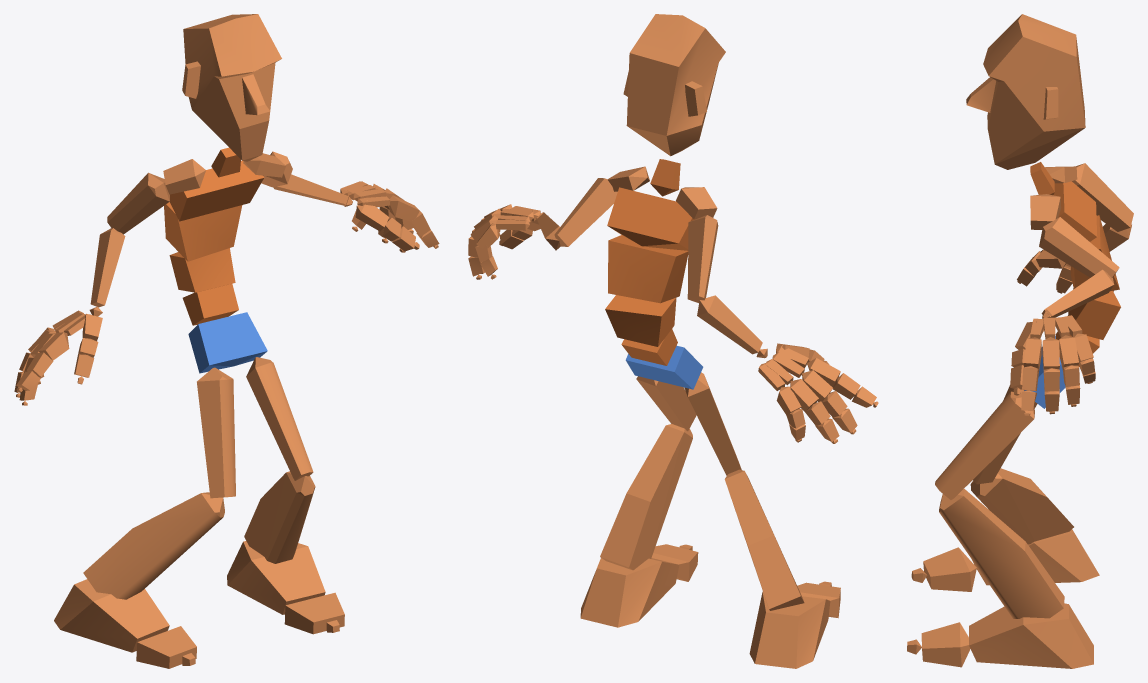
3 views of the same model, side by side, from view 1: azimuth 30°, elevation 25°; view 2: azimuth 150°, elevation 25°; view 3: azimuth 270°, elevation 25° (orthographic). The views are drawn at different scales.
Visible parts, largest first — view 1: BOPED_Head, BOPED_R_leg, BOPED_R_foot, BOPED_R_foot01, BOPED_L_leg, BOPED_R_legup, BOPED_L_legup, Bone01, Bone04, Bone05, Bone03, BOPED_R_arm_upper (+8 smaller); view 2: BOPED_Head, BOPED_L_leg, BOPED_R_foot01, BOPED_R_foot, BOPED_R_leg, Bone04, Bone05, Bone03, BOPED_R_arm_upper, BOPED_R_legup, BOPED_L_arm_upper, Bone01 (+8 smaller); view 3: BOPED_Head, BOPED_L_leg, BOPED_R_foot01, BOPED_R_leg, BOPED_L_legup, BOPED_R_foot, BOPED_L_arm_upper, BOPED_R_foot_toe01, BOPED_R_arm_upper, BOPED_R_foot_toe04, Bone05, Bone03 (+15 smaller).
Part boxes in pixels (box(x1,y1,x2,y2)): BOPED_Head: box(182, 14, 281, 161); BOPED_R_leg: box(83, 492, 224, 599); BOPED_R_foot: box(54, 579, 169, 652); BOPED_R_foot01: box(227, 541, 325, 614); BOPED_L_leg: box(244, 471, 315, 563); BOPED_R_legup: box(197, 367, 235, 498); BOPED_L_legup: box(246, 357, 313, 480); Bone01: box(188, 312, 267, 373); Bone04: box(164, 202, 242, 261); Bone05: box(170, 160, 264, 221); Bone03: box(169, 248, 235, 292); BOPED_R_arm_upper: box(107, 172, 169, 234); BOPED_Head: box(623, 14, 725, 156); BOPED_L_leg: box(600, 424, 692, 570); BOPED_R_foot01: box(580, 558, 679, 627); BOPED_R_foot: box(749, 591, 830, 668); BOPED_R_leg: box(724, 469, 804, 610); Bone04: box(608, 235, 688, 303); Bone05: box(607, 187, 694, 250); Bone03: box(605, 295, 676, 346); BOPED_R_arm_upper: box(687, 215, 718, 302); BOPED_R_legup: box(684, 372, 741, 475); BOPED_L_arm_upper: box(554, 178, 617, 246); Bone01: box(625, 346, 703, 389); BOPED_Head: box(966, 14, 1085, 169); BOPED_L_leg: box(939, 488, 1064, 618); BOPED_R_foot01: box(969, 603, 1093, 668); BOPED_R_leg: box(970, 468, 1073, 544); BOPED_L_legup: box(935, 391, 1034, 499); BOPED_R_foot: box(972, 529, 1099, 585); BOPED_L_arm_upper: box(1039, 217, 1119, 277); BOPED_R_foot_toe01: box(923, 547, 976, 591); BOPED_R_arm_upper: box(1072, 163, 1133, 231); BOPED_R_foot_toe04: box(921, 622, 970, 667); Bone05: box(1053, 181, 1097, 241); Bone03: box(1068, 288, 1120, 339).
Size of the model in its own units: 130 by 178 by 59.87.
